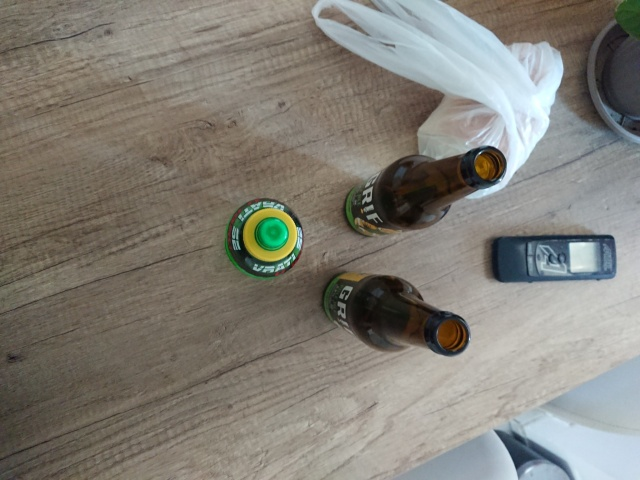Vindi Iso Sport Lemon-Grapefruit 500mL: (221, 194, 308, 283)
